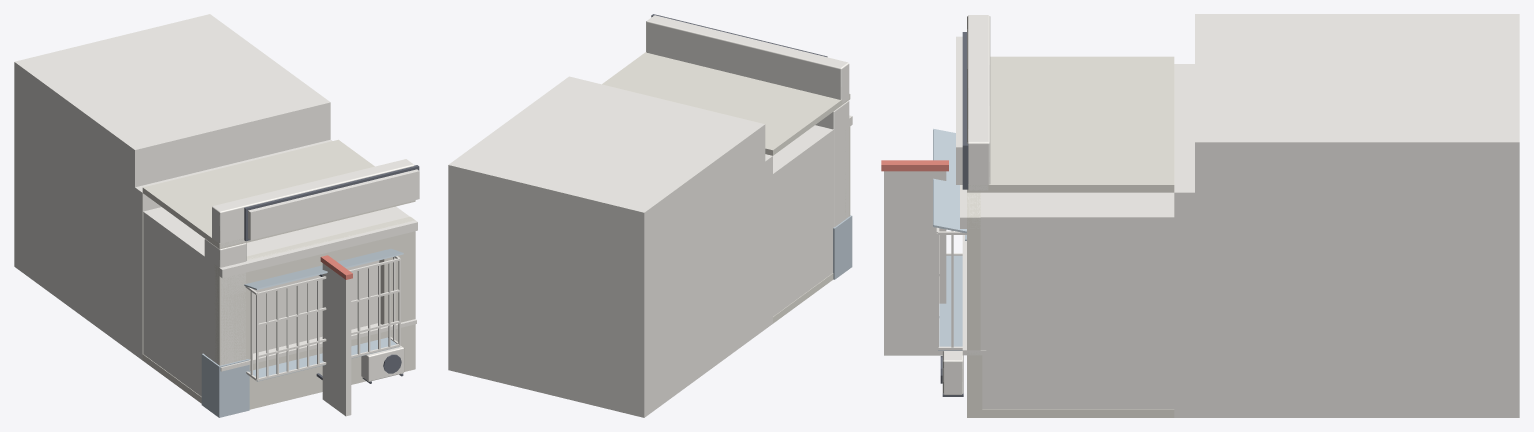
File: sq-arcade.glb
3 renders of one model, left to right at view 1: azimuth 30°, elevation 25°; view 2: azimuth 150°, elevation 25°; view 3: azimuth 270°, elevation 25°, orthographic. The views are drawn at different scales.
Visible parts, largest first — view 1: ground, storey, roof, vsign; view 2: ground, storey; view 3: ground, storey, vsign, roof.
Boxes of the visible parts, bbox=[...] form: ground: bbox=[14, 14, 419, 417]; storey: bbox=[143, 206, 417, 407]; roof: bbox=[220, 319, 416, 408]; vsign: bbox=[316, 255, 352, 416]; ground: bbox=[448, 14, 852, 417]; storey: bbox=[448, 115, 852, 417]; ground: bbox=[956, 14, 1519, 417]; storey: bbox=[933, 128, 1174, 417]; vsign: bbox=[881, 160, 948, 355]; roof: bbox=[962, 235, 986, 417].
Bounding box in the file's own units: 4.48 × 4.4 × 9.24.
